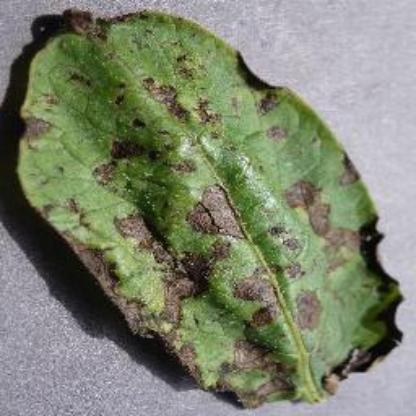Early-Blight: (13, 7, 403, 406)
